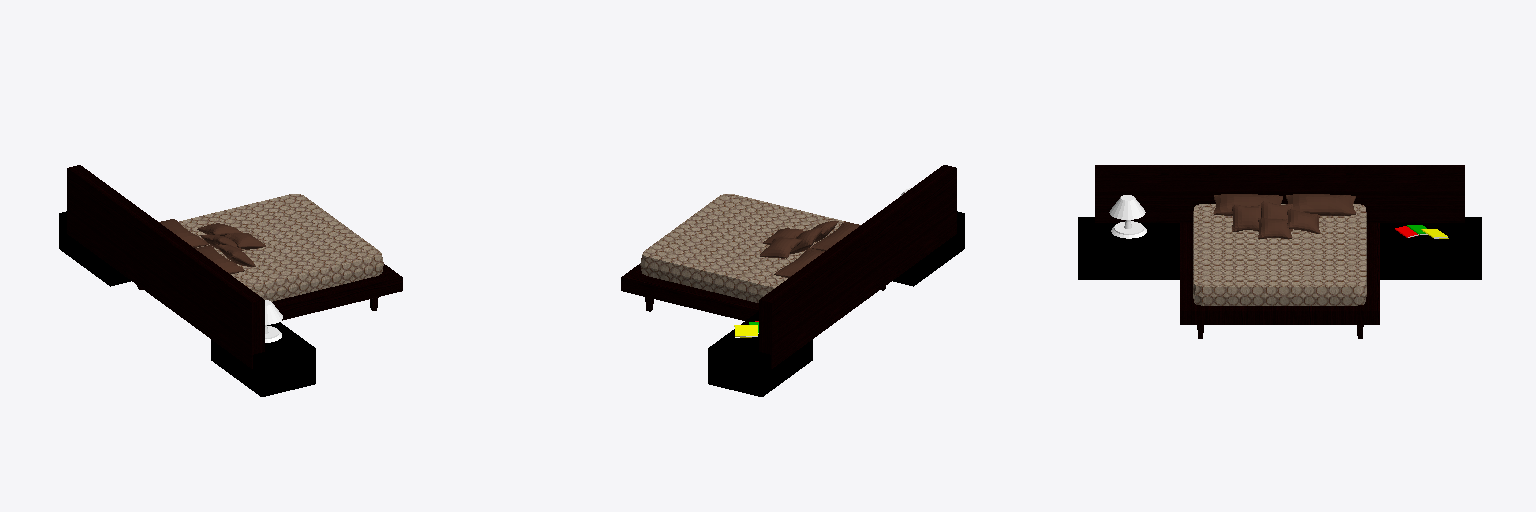
3 renders of one model, left to right at view 1: azimuth 30°, elevation 25°; view 2: azimuth 150°, elevation 25°; view 3: azimuth 270°, elevation 25°, orthographic.
Size of the model in its own units: 27.85 by 12.19 by 50.63.
11 materials, 4 textured.